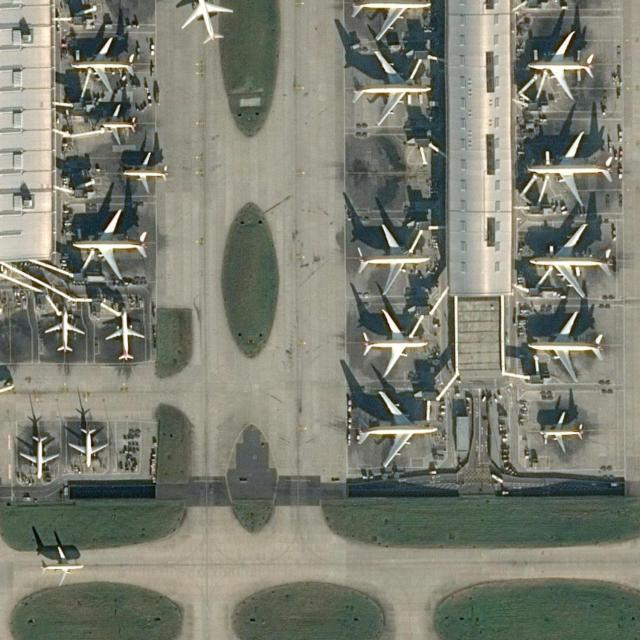Aircraft: (528, 129, 614, 205), (356, 391, 437, 468), (530, 223, 614, 297), (351, 50, 431, 126), (527, 310, 605, 382), (71, 207, 147, 279), (357, 222, 430, 296), (527, 29, 595, 101), (361, 309, 429, 378), (71, 37, 136, 92), (351, 0, 431, 40), (181, 0, 234, 44), (105, 309, 145, 361), (122, 152, 168, 194), (44, 307, 86, 352), (538, 410, 583, 452), (40, 545, 84, 587), (19, 435, 59, 479), (68, 428, 108, 468), (98, 104, 136, 145)
